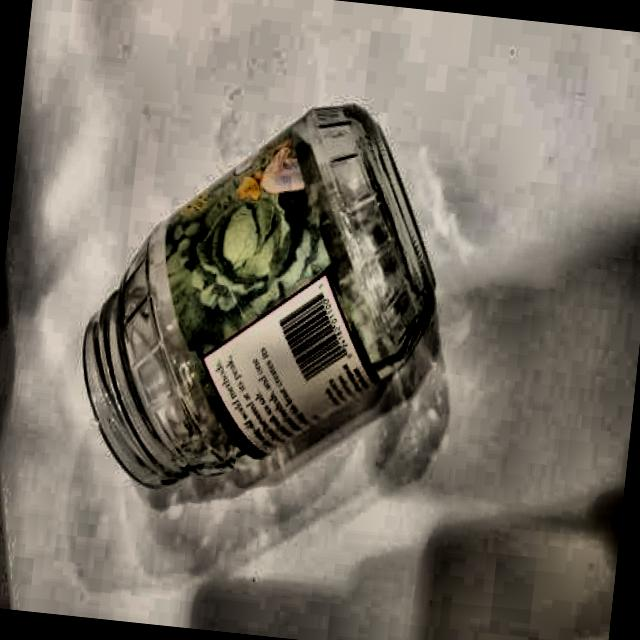glass: (65, 74, 462, 524)
